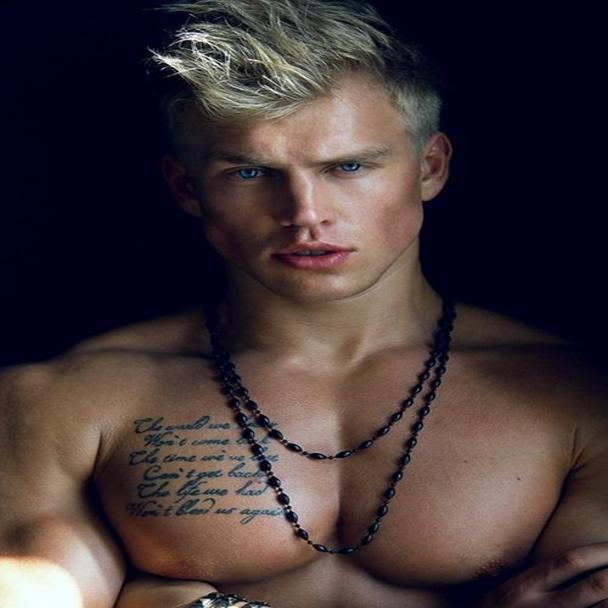tattoos: (125, 415, 290, 526)
